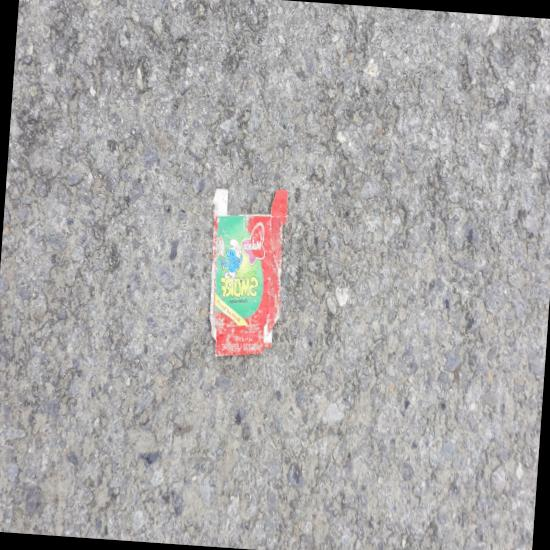Cigarette: (519, 101, 523, 114)
Other plastic: (311, 190, 358, 252), (462, 115, 472, 127), (245, 542, 250, 549)
Unlabeled litter: (254, 328, 262, 350)
